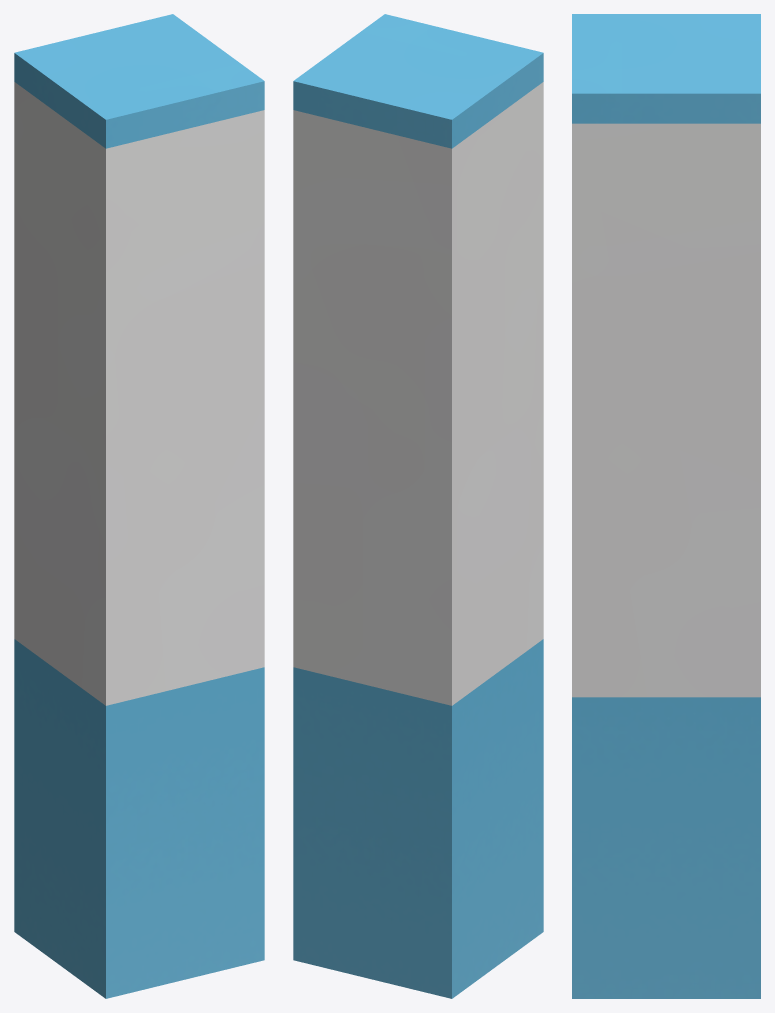
Rendered from wall_column.dae.
3 renders of one model, left to right at view 1: azimuth 30°, elevation 25°; view 2: azimuth 150°, elevation 25°; view 3: azimuth 270°, elevation 25°, orthographic. The views are drawn at different scales.
Visible parts, largest first — view 1: wall_column; view 2: wall_column; view 3: wall_column.
Boxes of the visible parts, x1,y1,x2,y2 form: wall_column: [14, 14, 264, 998]; wall_column: [293, 14, 543, 998]; wall_column: [572, 14, 760, 998].
Bounding box in the file's own units: 0.3782 × 0.3782 × 2.
